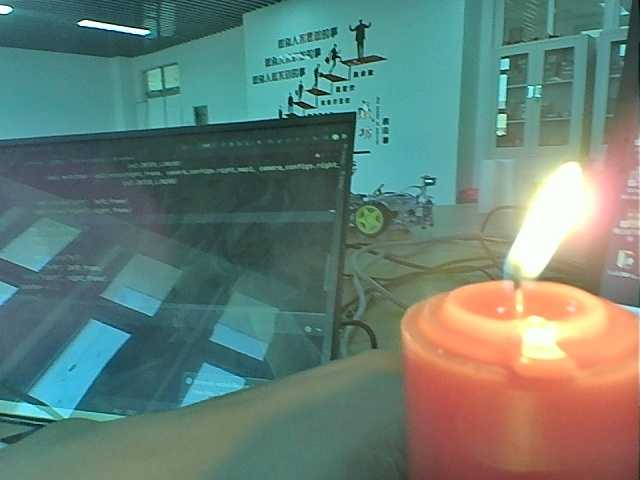candle: (394, 278, 640, 480)
fire: (493, 148, 593, 328)
